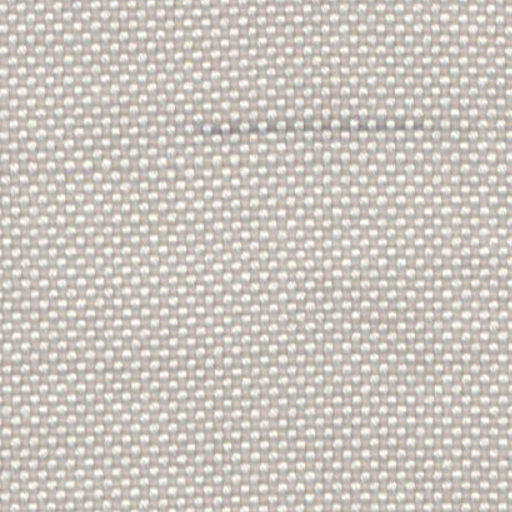WuZi: (200, 110, 432, 142)
